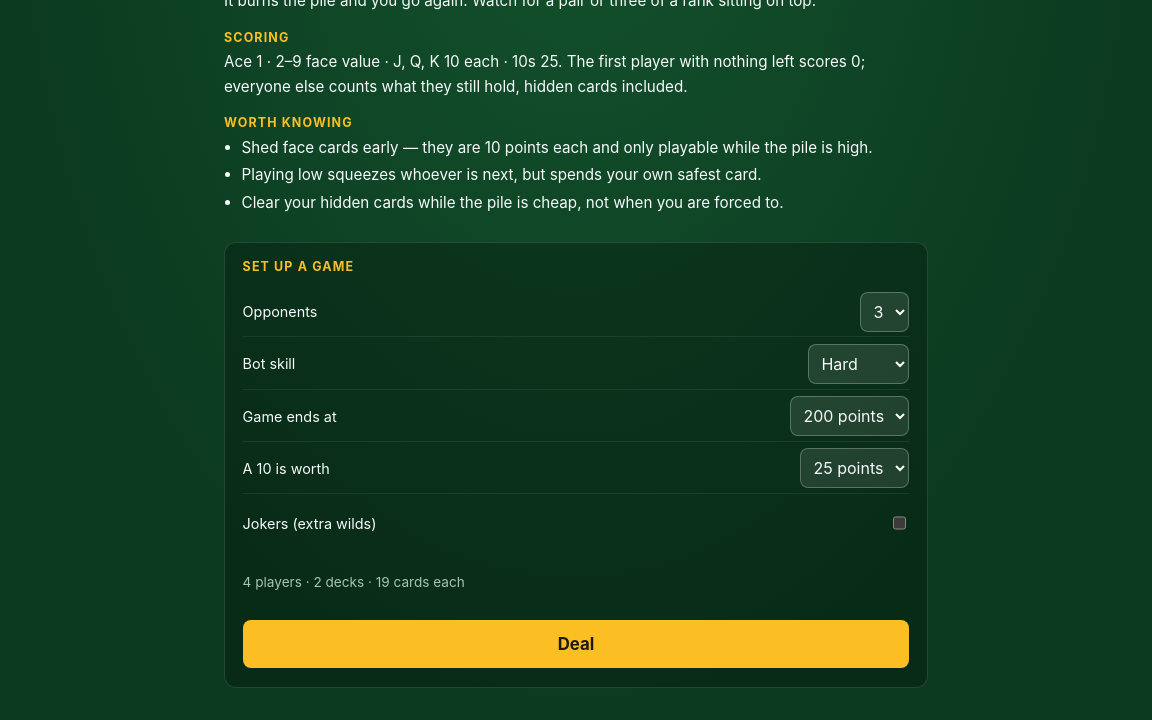
tempo › offers four tempos, slowest first, and starts on Slow
(page scrolled)
Click the button "Deal": [576, 644] box [243, 620, 909, 668]
(page scrolled)
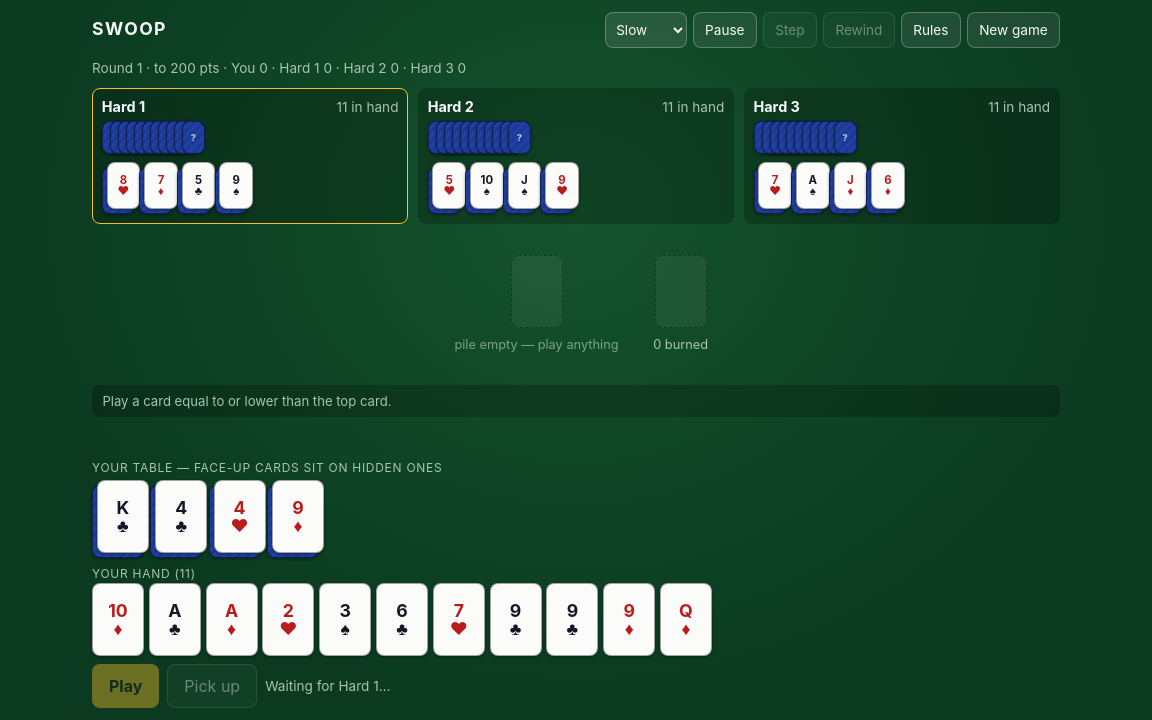
Now the dropdown named "Bot speed" shows "Slow", box [605, 12, 686, 48]
